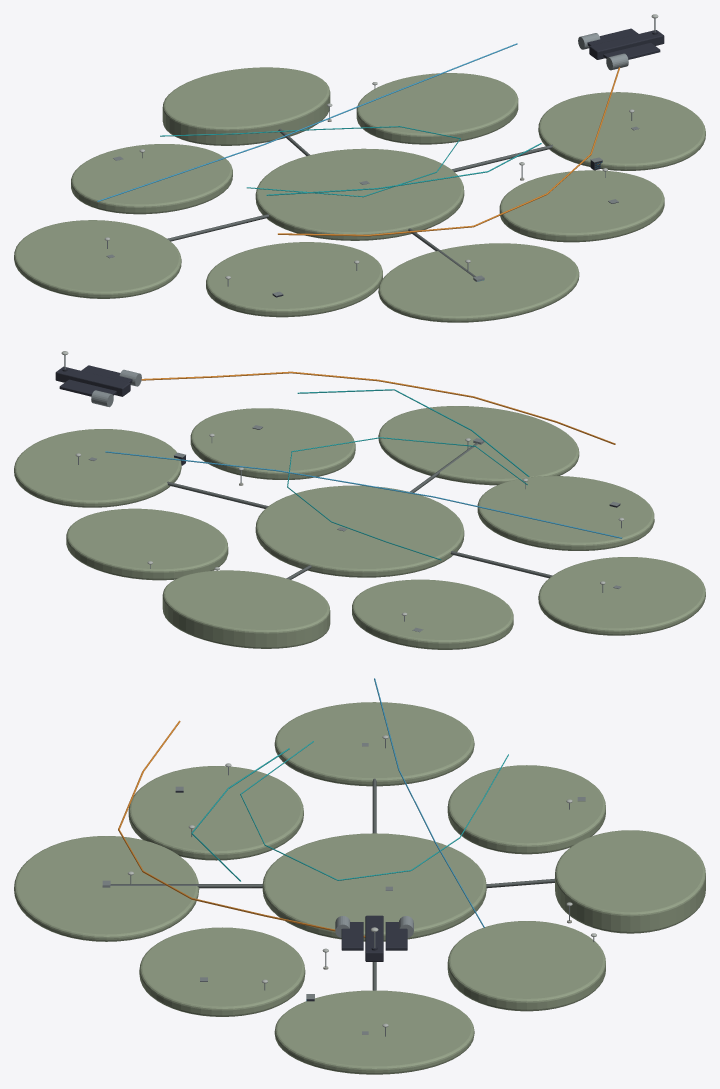
Rendered from starter-coast-story-masterplan-authored-v1.glb.
The picture shows the model from 3 angles, top to bottom: view 1: azimuth 30°, elevation 25°; view 2: azimuth 150°, elevation 25°; view 3: azimuth 270°, elevation 25°; orthographic projection. The views are drawn at different scales.
Parts seen in each view (by area): view 1: Central_Civic_Island__terrain__lod0, South_Harbor_Island__terrain__lod0, North_Sensor_Island__terrain__lod0, Southwest_City_Island__terrain__lod0, Vanguard_Airfield_Island__terrain__lod0, Inferno_Airfield_Island__terrain__lod0, Southeast_Relay_Island__terrain__lod0, Northeast_Industrial_Island__terrain__lod0, Northwest_Residential_Island__terrain__lod0, Final_storm_corridor, Warden_Carrier__spine, Tempest_canyon_line (+4 smaller); view 2: Central_Civic_Island__terrain__lod0, South_Harbor_Island__terrain__lod0, North_Sensor_Island__terrain__lod0, Vanguard_Airfield_Island__terrain__lod0, Southwest_City_Island__terrain__lod0, Inferno_Airfield_Island__terrain__lod0, Southeast_Relay_Island__terrain__lod0, Northeast_Industrial_Island__terrain__lod0, Northwest_Residential_Island__terrain__lod0, Final_storm_corridor, Civilian_evacuation_corridor, Warden_Carrier__spine (+4 smaller); view 3: Central_Civic_Island__terrain__lod0, South_Harbor_Island__terrain__lod0, Inferno_Airfield_Island__terrain__lod0, Vanguard_Airfield_Island__terrain__lod0, Southwest_City_Island__terrain__lod0, North_Sensor_Island__terrain__lod0, Southeast_Relay_Island__terrain__lod0, Northeast_Industrial_Island__terrain__lod0, Northwest_Residential_Island__terrain__lod0, Final_storm_corridor, Warden_Carrier__spine, Masterplan__north_south_spine (+2 smaller).
Part boxes in pixels (x1,y1,x2,y2): Central_Civic_Island__terrain__lod0: (255, 148, 464, 240); South_Harbor_Island__terrain__lod0: (378, 243, 579, 322); North_Sensor_Island__terrain__lod0: (162, 67, 330, 145); Southwest_City_Island__terrain__lod0: (206, 242, 382, 317); Vanguard_Airfield_Island__terrain__lod0: (14, 220, 181, 298); Inferno_Airfield_Island__terrain__lod0: (538, 92, 705, 170); Southeast_Relay_Island__terrain__lod0: (499, 170, 664, 242); Northeast_Industrial_Island__terrain__lod0: (356, 73, 518, 144); Northwest_Residential_Island__terrain__lod0: (71, 144, 232, 214); Final_storm_corridor: (277, 67, 620, 236); Warden_Carrier__spine: (589, 30, 664, 59); Tempest_canyon_line: (160, 126, 460, 197); Central_Civic_Island__terrain__lod0: (255, 485, 464, 577); South_Harbor_Island__terrain__lod0: (378, 406, 579, 485); North_Sensor_Island__terrain__lod0: (162, 570, 330, 648); Vanguard_Airfield_Island__terrain__lod0: (538, 557, 705, 635); Southwest_City_Island__terrain__lod0: (477, 476, 654, 550); Inferno_Airfield_Island__terrain__lod0: (14, 429, 181, 507); Southeast_Relay_Island__terrain__lod0: (190, 408, 355, 479); Northeast_Industrial_Island__terrain__lod0: (66, 508, 228, 580); Northwest_Residential_Island__terrain__lod0: (352, 579, 513, 649); Final_storm_corridor: (141, 371, 615, 444); Civilian_evacuation_corridor: (105, 451, 622, 538); Warden_Carrier__spine: (55, 366, 130, 396); Central_Civic_Island__terrain__lod0: (262, 833, 486, 941); South_Harbor_Island__terrain__lod0: (14, 836, 199, 941); Inferno_Airfield_Island__terrain__lod0: (274, 990, 474, 1074); Vanguard_Airfield_Island__terrain__lod0: (274, 702, 474, 786); Southwest_City_Island__terrain__lod0: (128, 766, 303, 860); North_Sensor_Island__terrain__lod0: (555, 830, 705, 933); Southeast_Relay_Island__terrain__lod0: (139, 927, 305, 1016); Northeast_Industrial_Island__terrain__lod0: (447, 921, 605, 1011); Northwest_Residential_Island__terrain__lod0: (447, 765, 605, 854); Final_storm_corridor: (118, 720, 365, 937); Warden_Carrier__spine: (365, 915, 383, 961); Masterplan__north_south_spine: (110, 878, 554, 888).
Bounding box in the file's own units: 7120 × 1146 × 5680.
